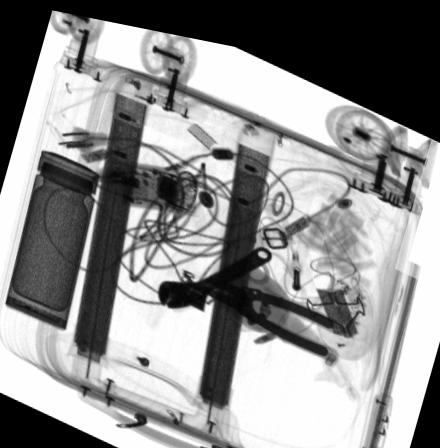Pliers: (198, 269, 346, 348)
Wrench: (156, 235, 271, 304)
